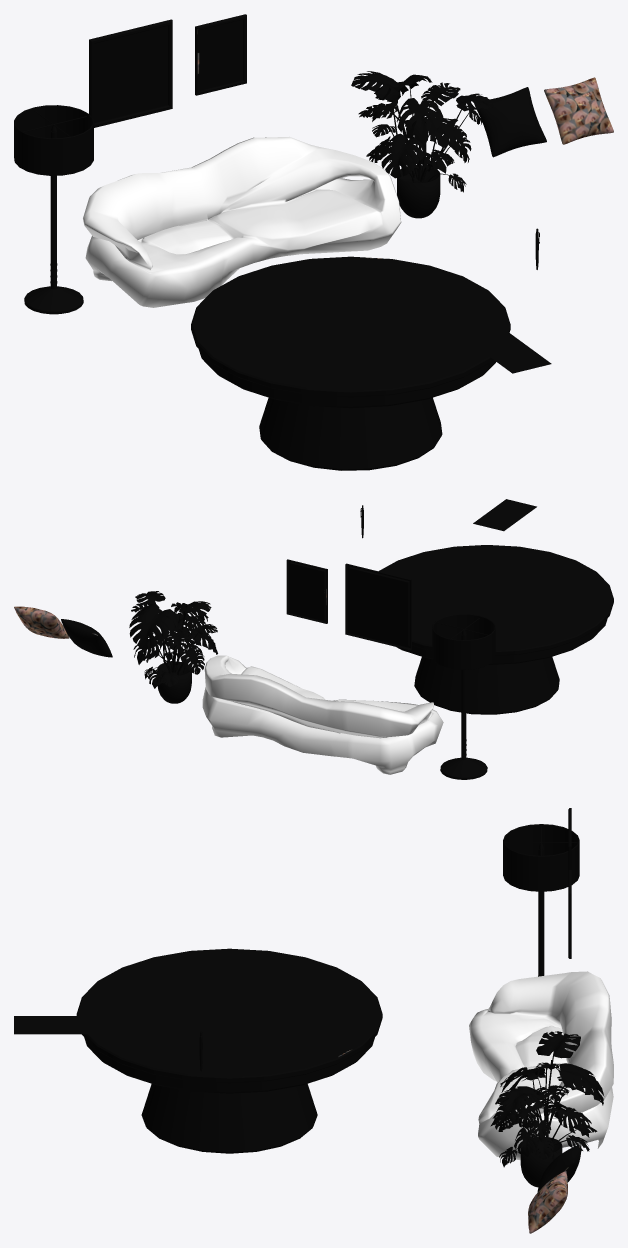
3 renders of one model, top to bottom at view 1: azimuth 30°, elevation 25°; view 2: azimuth 150°, elevation 25°; view 3: azimuth 270°, elevation 25°, orthographic. The views are drawn at different scales.
Parts seen in each view (by area): view 1: SM_table, SM_sofa, SM_plant, SM_frame1, SM_lamp, SM_frame2, SM_pillow2, SM_pillow1, SM_paper; view 2: SM_table, SM_sofa, SM_plant, SM_frame1, SM_lamp, SM_frame2, SM_pillow1, SM_paper, SM_pillow2; view 3: SM_table, SM_sofa, SM_plant, SM_lamp, SM_paper, SM_pillow1, SM_pillow2.
Boxes of the visible parts, x1,y1,x2,y2 form: SM_table: (191,256,510,470); SM_sofa: (83,136,401,307); SM_plant: (351,71,493,218); SM_frame1: (89,19,172,127); SM_lamp: (14,105,93,314); SM_frame2: (195,14,246,95); SM_pillow2: (474,87,546,157); SM_pillow1: (544,77,613,144); SM_paper: (470,333,551,373); SM_table: (379,545,613,714); SM_sofa: (202,655,443,774); SM_plant: (129,591,217,703); SM_frame1: (345,563,411,650); SM_lamp: (432,614,495,779); SM_frame2: (286,559,327,623); SM_pillow1: (14,606,69,638); SM_paper: (473,499,536,531); SM_pillow2: (61,619,112,657); SM_table: (76,948,382,1153); SM_sofa: (469,971,613,1160); SM_plant: (490,1031,604,1187); SM_lamp: (503,824,579,976); SM_paper: (14,1016,94,1034); SM_pillow1: (528,1171,567,1233); SM_pillow2: (537,1144,581,1191).
Size of the model in its own units: 5.22 by 2.39 by 4.81.
2 materials, 1 textured.
